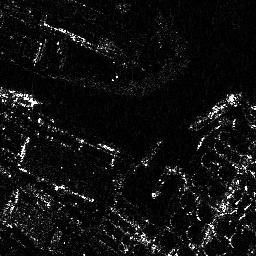ship: (185, 92, 246, 130), (1, 87, 44, 105)
